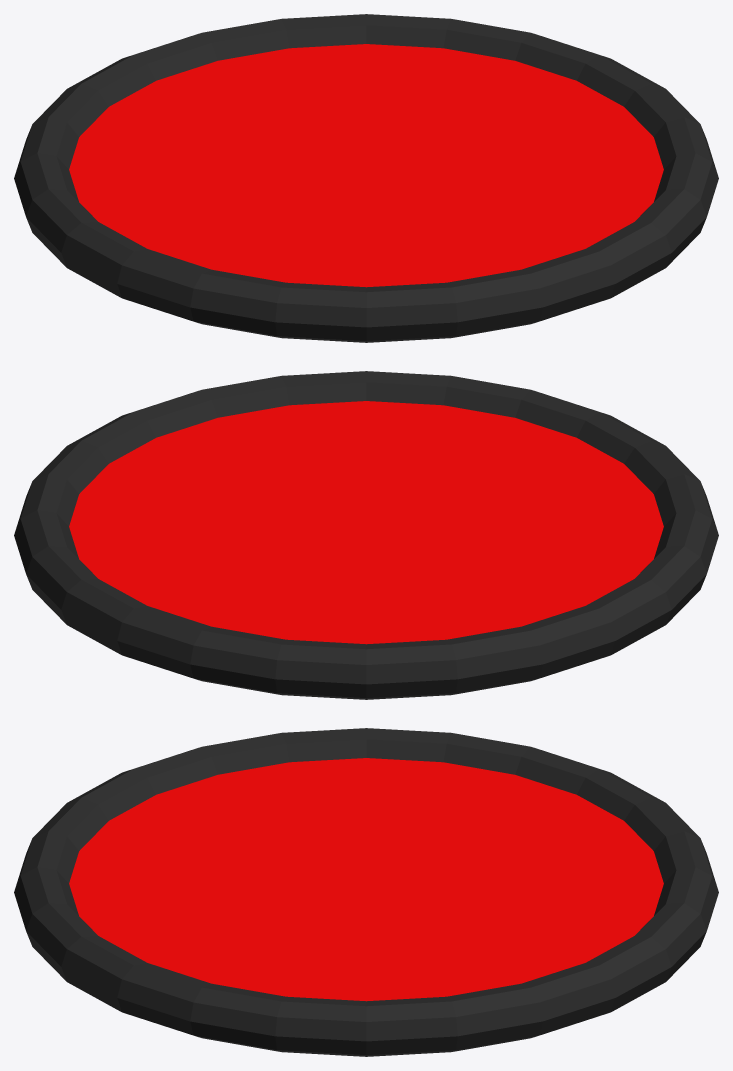
Rendered from Jumppad.fbx.
3 renders of one model, top to bottom at view 1: azimuth 30°, elevation 25°; view 2: azimuth 150°, elevation 25°; view 3: azimuth 270°, elevation 25°, orthographic.
Visible parts, largest first — view 1: JumpPad; view 2: JumpPad; view 3: JumpPad.
Part boxes in pixels (x1,y1,x2,y2): JumpPad: (14,14,718,342); JumpPad: (14,371,718,699); JumpPad: (14,728,718,1056).
Size of the model in its own units: 260 by 20.65 by 260.
